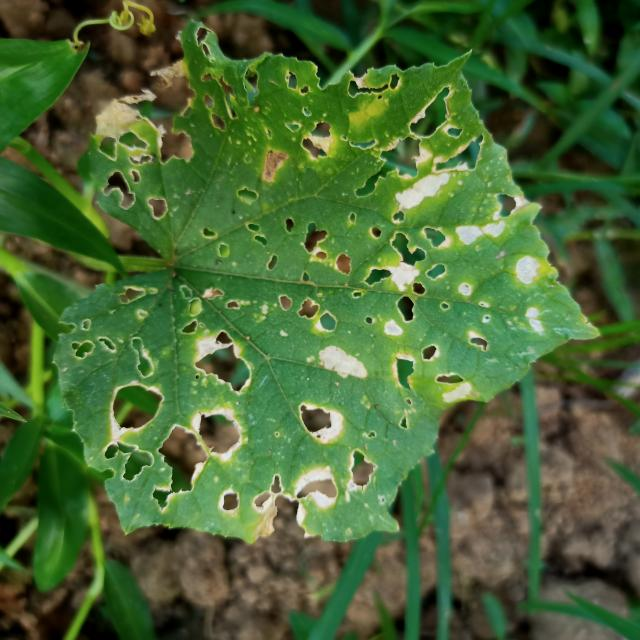disease_cucumber: (73, 55, 538, 533)
